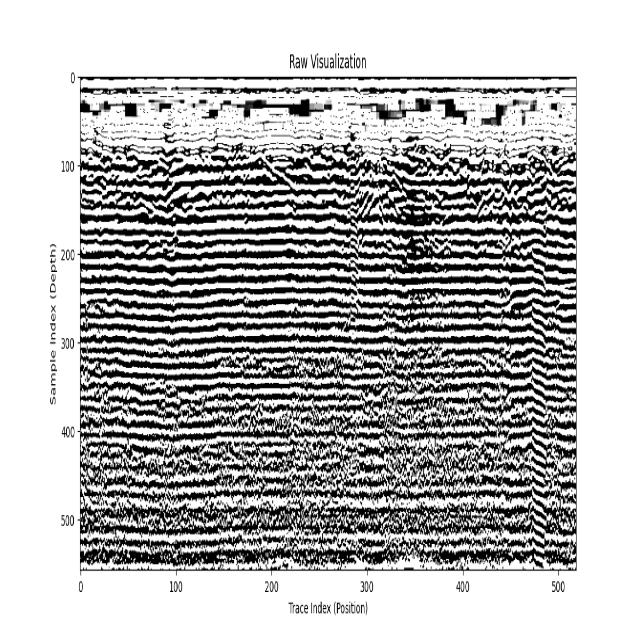anomaly: (530, 168, 548, 565), (354, 164, 410, 245), (225, 146, 284, 198)
